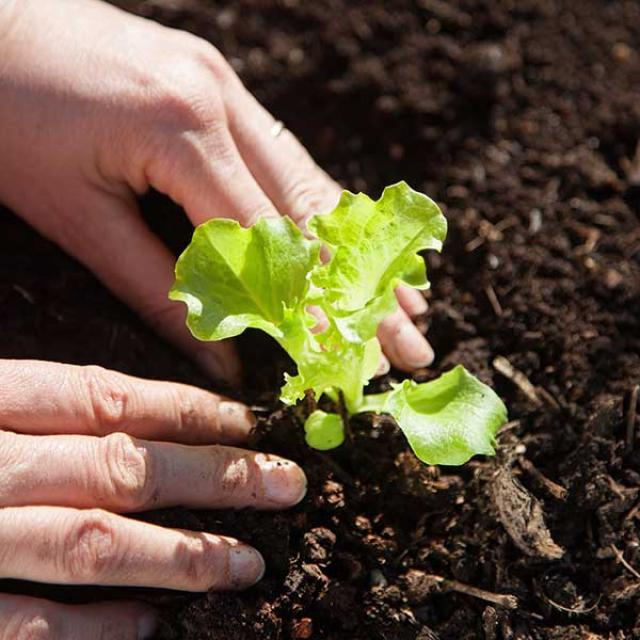verde: (169, 182, 506, 464)
